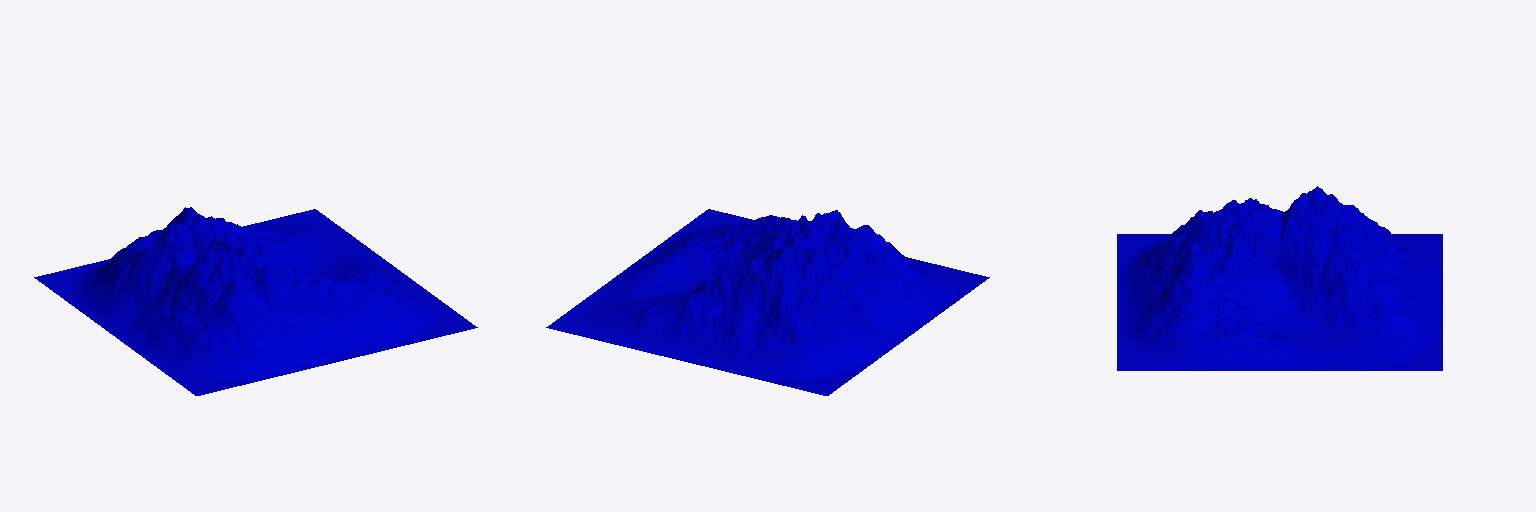
3 views of the same model, side by side, from view 1: azimuth 30°, elevation 25°; view 2: azimuth 150°, elevation 25°; view 3: azimuth 270°, elevation 25° (orthographic).
Visible parts, largest first — view 1: Landscape.001; view 2: Landscape.001; view 3: Landscape.001.
Part boxes in pixels (x1,y1,x2,y2): Landscape.001: (34, 207, 477, 395); Landscape.001: (546, 209, 989, 395); Landscape.001: (1117, 186, 1442, 370).
Bounding box in the file's own units: 2 × 0.6338 × 2.